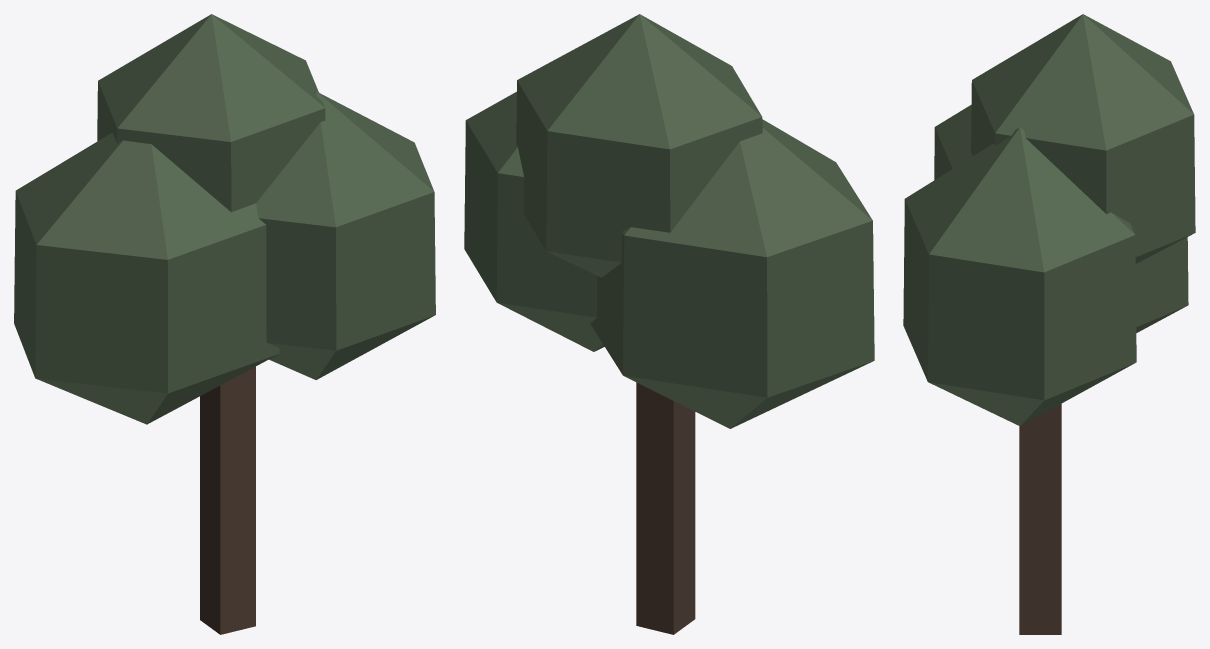
File: broadleaf.glb
3 renders of one model, left to right at view 1: azimuth 30°, elevation 25°; view 2: azimuth 150°, elevation 25°; view 3: azimuth 270°, elevation 25°, orthographic. The views are drawn at different scales.
Visible parts, largest first — view 1: broadleaf; view 2: broadleaf; view 3: broadleaf.
Part boxes in pixels (left/top/right/bottom): broadleaf: left=14, top=14, right=435, bottom=634; broadleaf: left=464, top=14, right=874, bottom=634; broadleaf: left=903, top=14, right=1195, bottom=634.
Size of the model in its own units: 2.71 by 3.98 by 1.72.
